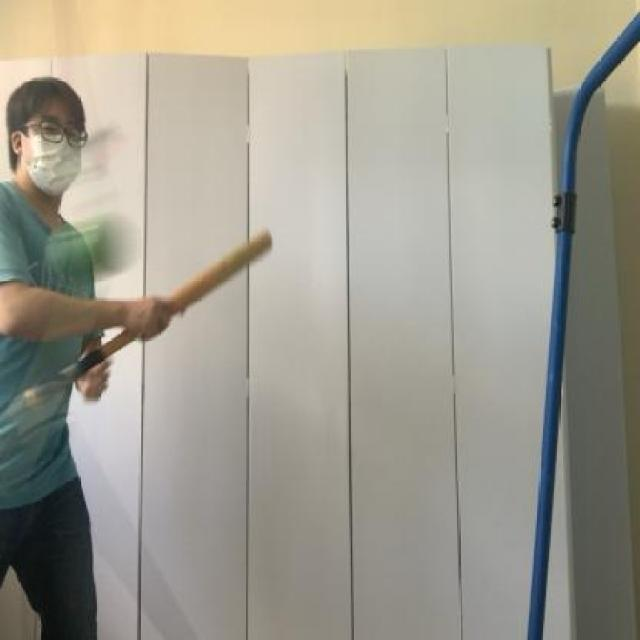baseball: (31, 202, 140, 290)
